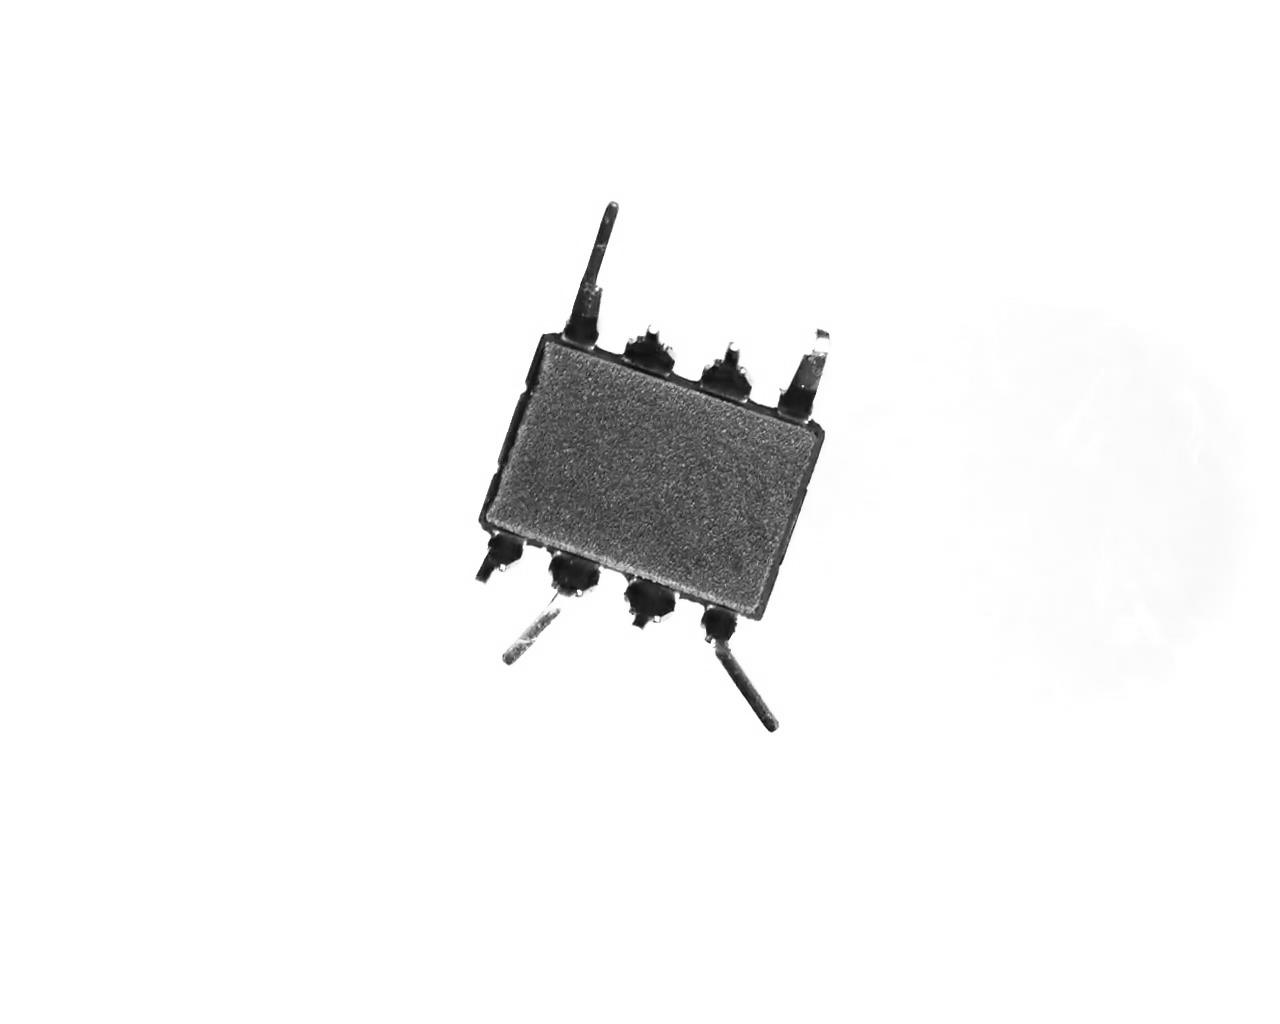Leg: (489, 545, 603, 669), (691, 603, 783, 739), (558, 194, 611, 360), (776, 322, 832, 437)
brokenLeg: (614, 564, 680, 637), (696, 330, 754, 409), (614, 322, 683, 382), (466, 533, 532, 586)
